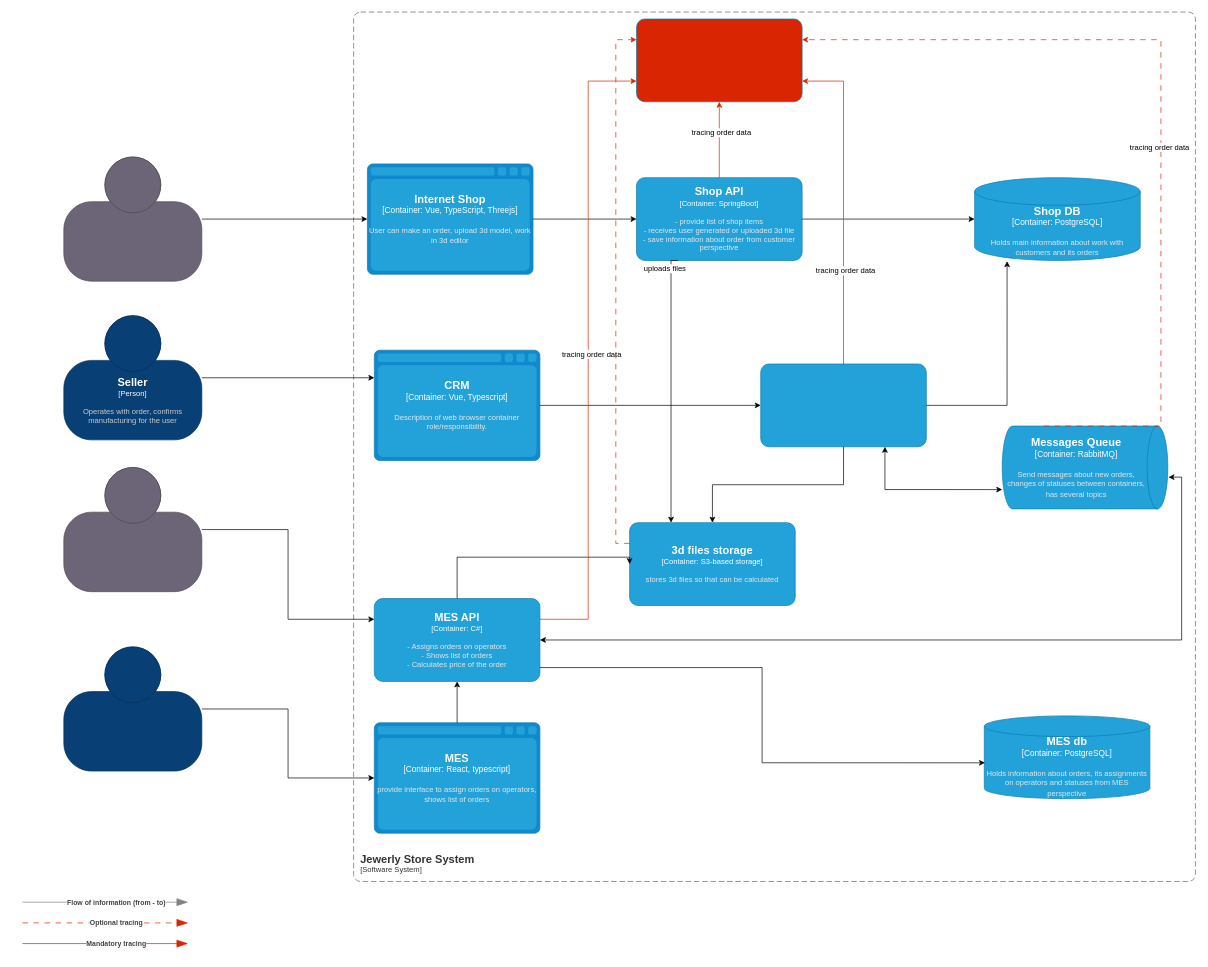
The diagram is 1208 pixels wide and 967 high, and some of its shapes have lost their labels. The shapes that lost their labels are listed below. From the top down, each one's box as (x1, y1, x2, y2) in pixels, then its label:
(636, 18, 802, 102): Tracing system [Container: Jaeger] tracing collector, gui, store
(63, 156, 202, 281): Customer [Person] Description of external person.
(760, 363, 926, 447): CRM API [Container: SpringBoot] Description of container role/responsibility.
(63, 467, 202, 592): API user [Person] Description of external person.
(63, 646, 202, 771): Operator [Person] Takes order in work, manufactures jewerly
